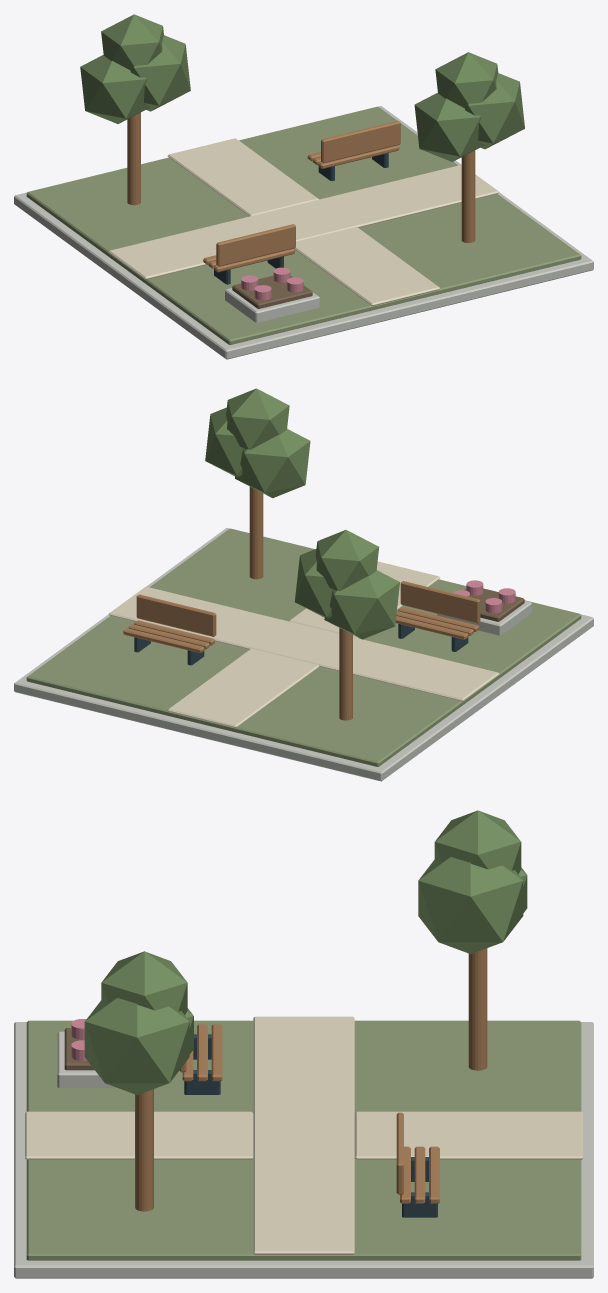
The model's file is park-pocket-2x2.glb.
3 views of the same model, one above another, from view 1: azimuth 30°, elevation 25°; view 2: azimuth 150°, elevation 25°; view 3: azimuth 270°, elevation 25° (orthographic). The views are drawn at different scales.
Parts seen in each view (by area): view 1: FacilityCombinedMesh; view 2: FacilityCombinedMesh; view 3: FacilityCombinedMesh.
Boxes of the visible parts, left/top/right/bottom form: FacilityCombinedMesh: left=14, top=14, right=593, bottom=359; FacilityCombinedMesh: left=14, top=388, right=593, bottom=781; FacilityCombinedMesh: left=14, top=810, right=593, bottom=1278.
Size of the model in its own units: 8 by 4.2 by 8.
